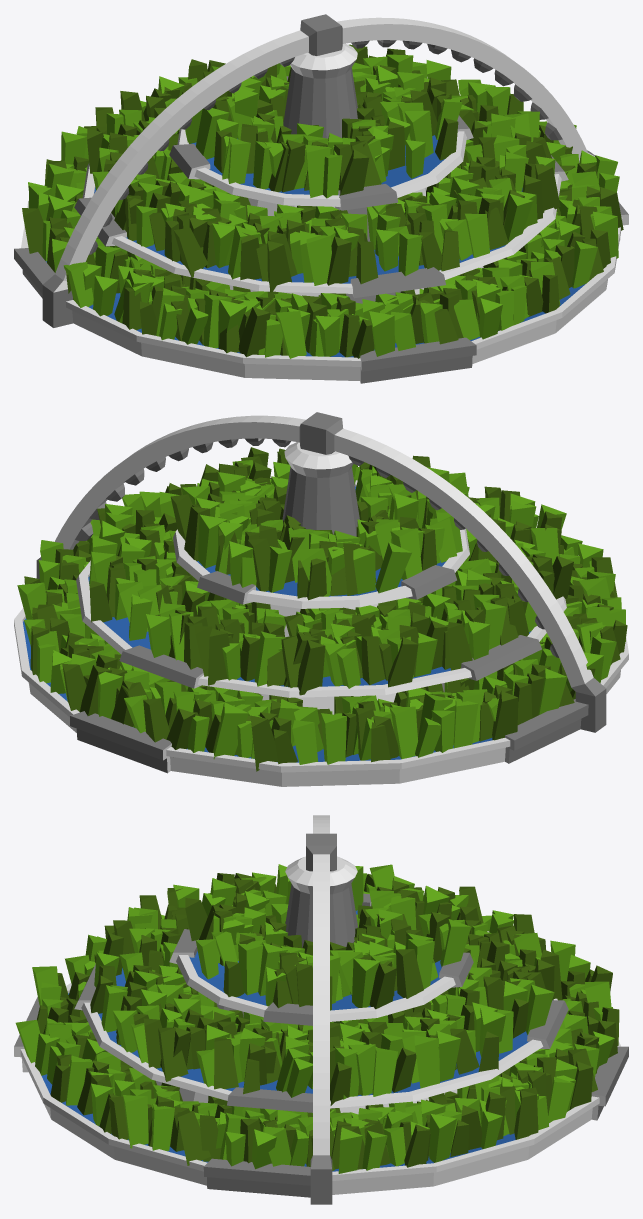
File: Obj_Farm_1.fbx
The picture shows the model from 3 angles, top to bottom: view 1: azimuth 30°, elevation 25°; view 2: azimuth 150°, elevation 25°; view 3: azimuth 270°, elevation 25°; orthographic projection. The views are drawn at different scales.
Visible parts, largest first — view 1: Plants, Farm_Base, Sprinkler, Water; view 2: Plants, Farm_Base, Sprinkler, Water; view 3: Plants, Farm_Base, Sprinkler, Water.
Boxes of the visible parts, x1,y1,x2,y2 form: Plants: (22,44,623,358); Farm_Base: (14,43,628,383); Sprinkler: (42,14,594,327); Water: (46,135,588,357); Plants: (17,447,627,771); Farm_Base: (14,442,628,786); Sprinkler: (36,412,606,732); Water: (23,486,531,762); Plants: (15,864,619,1173); Farm_Base: (14,856,628,1197); Sprinkler: (306,815,336,1204); Water: (41,910,528,1171).
Size of the model in its own units: 2129 by 873 by 2091.
